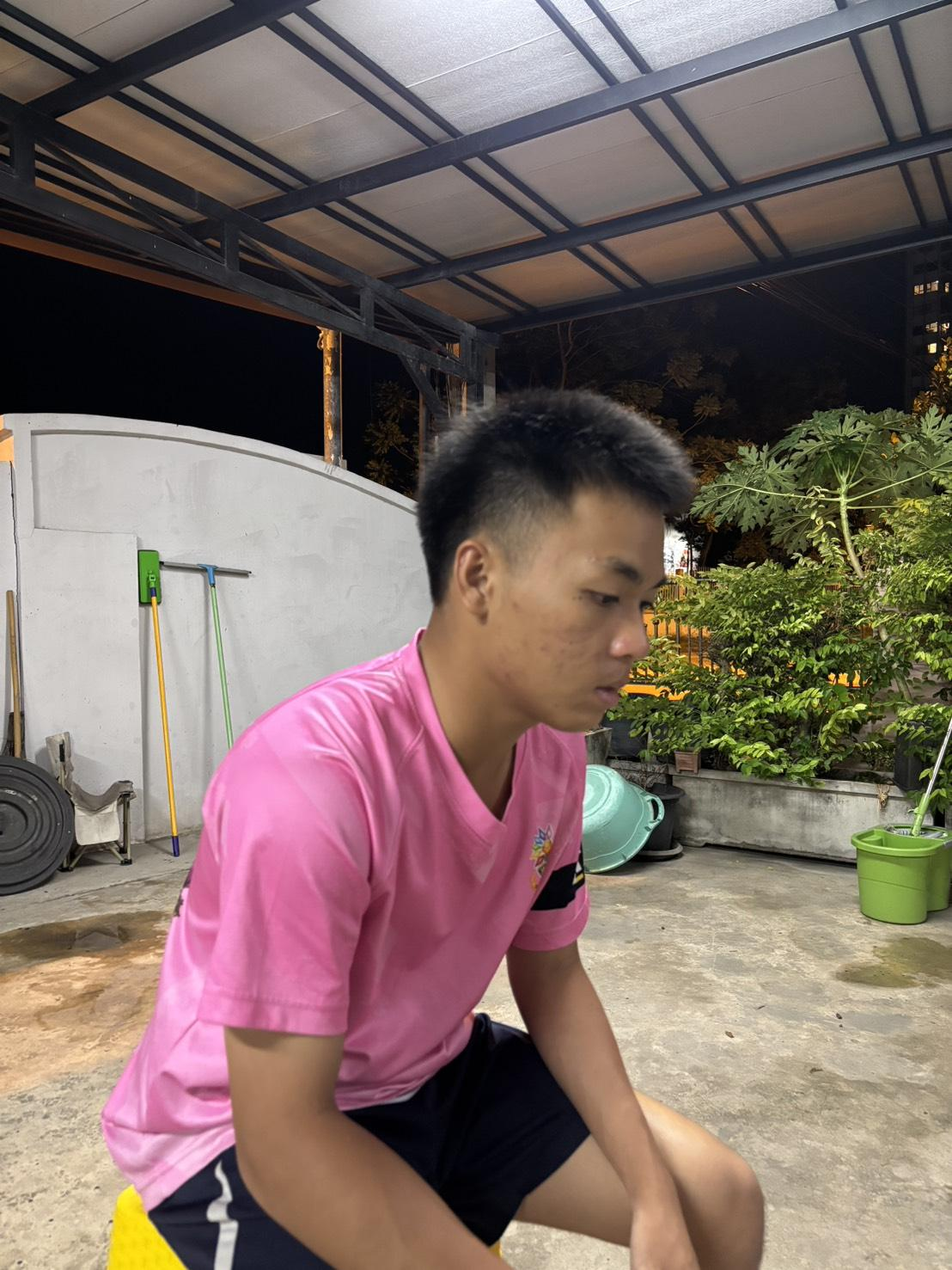BadPosture: (103, 392, 763, 1269)
